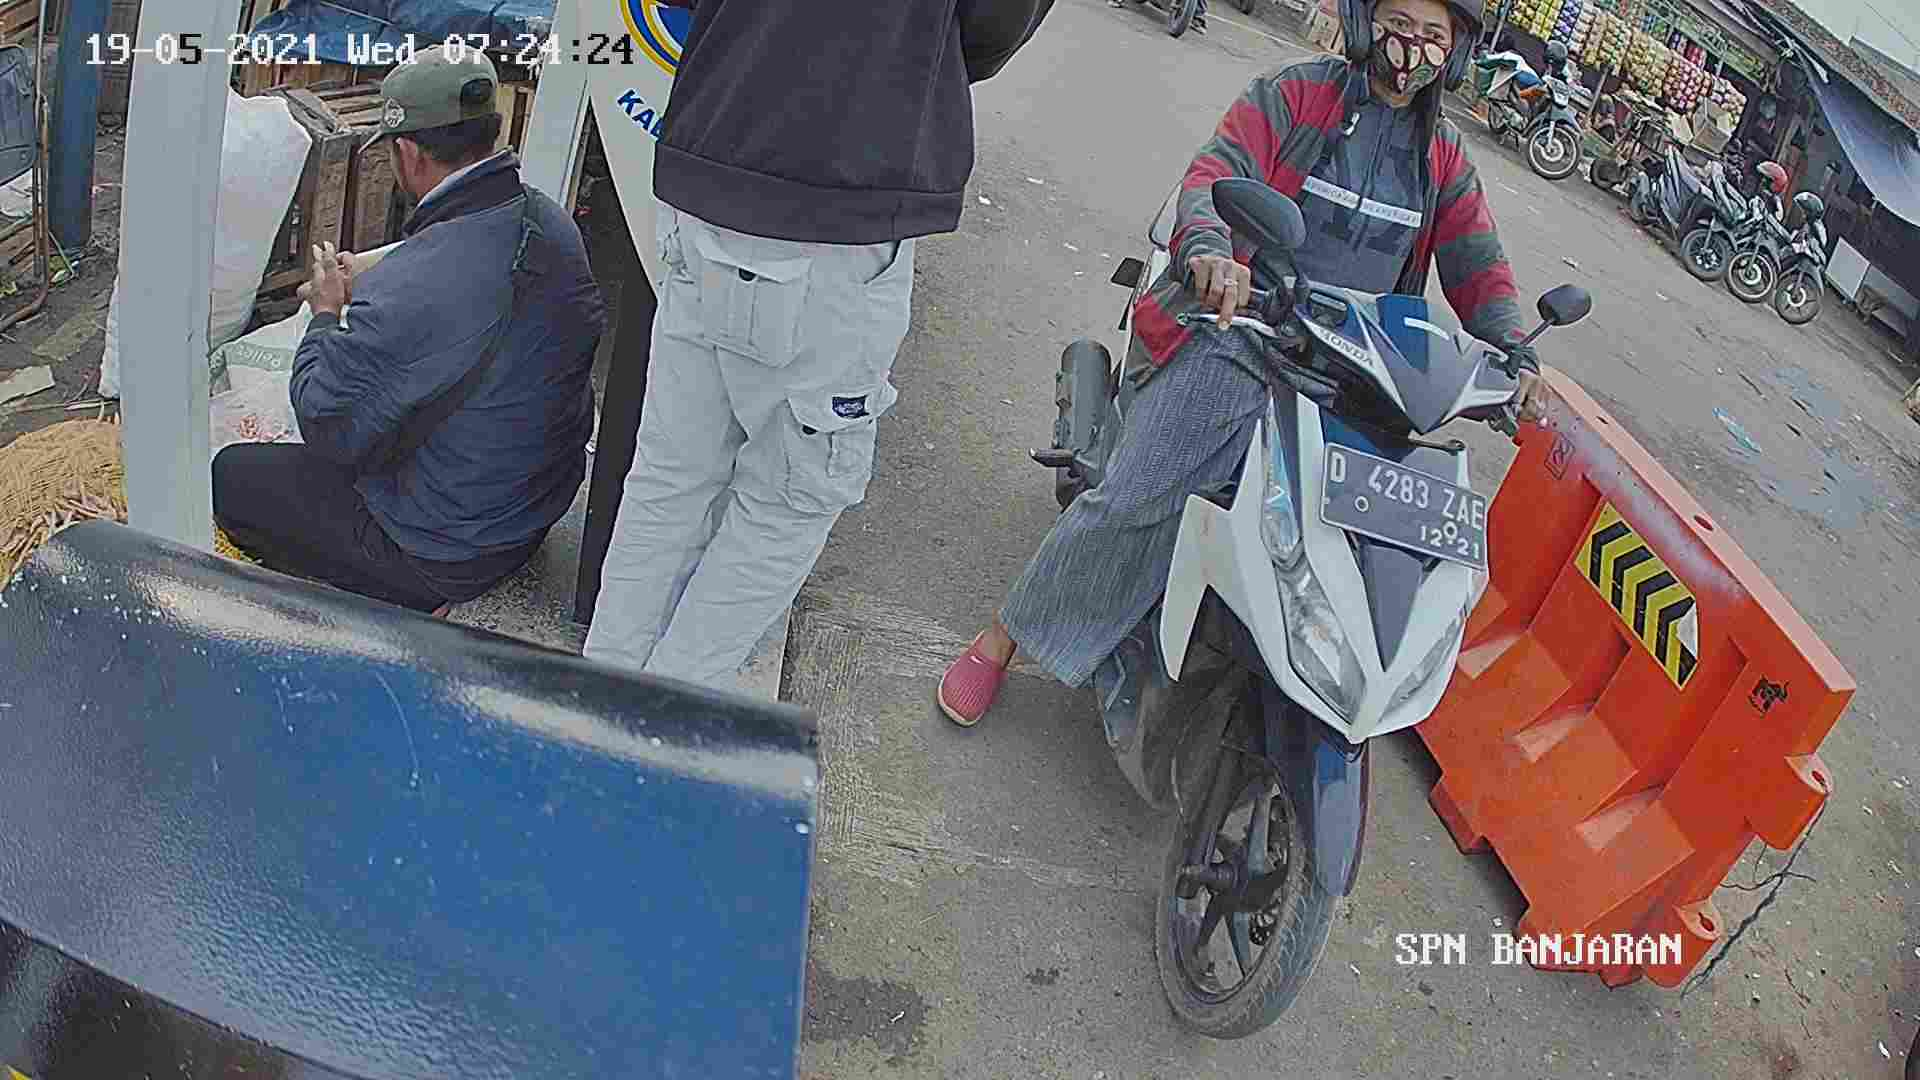motor: (1051, 244, 1563, 992)
